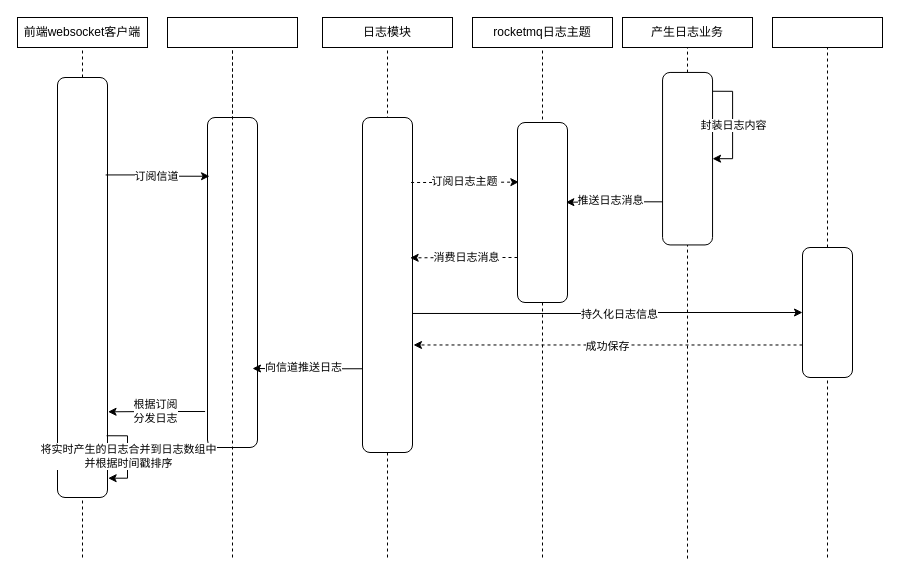
The diagram is 900 pixels wide and 578 high, and some of its shapes have lost their labels. The box of each missing label's shape, as (x1, y1, x2, y2) in pixels:
websocket消息分发器: (166, 16, 298, 48)
数据库: (772, 16, 882, 48)
